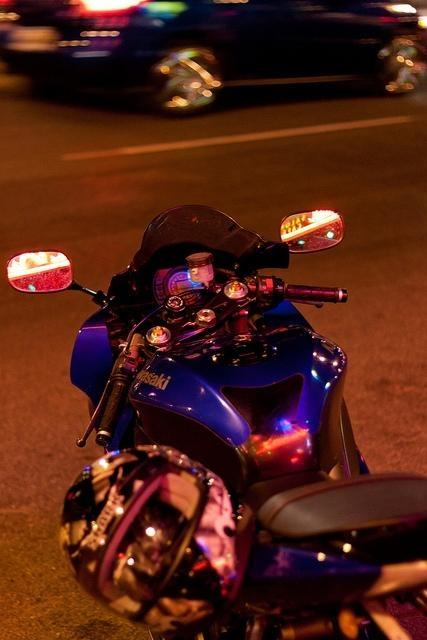car: (8, 3, 427, 112)
motorcycle: (4, 206, 427, 633)
